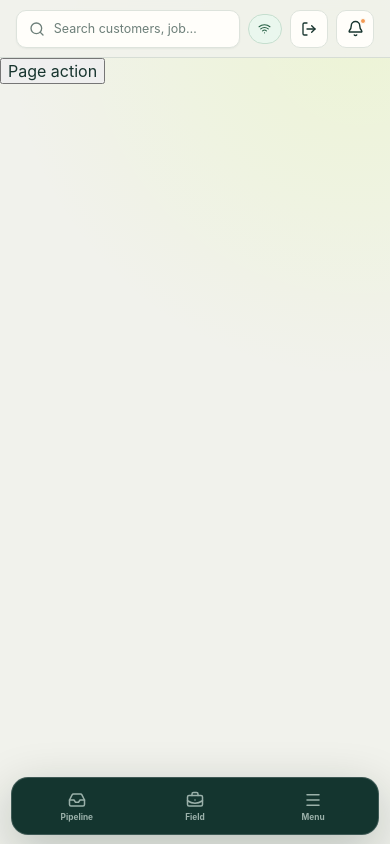
it: AppShell keyboard and mobile accessibility › filters the complete drawer to the authenticated technician permission set
The width and height of the screenshot is (390, 844).
Click the button with aria-label "Open navigation menu": x=313, y=806 [254,784,372,829]
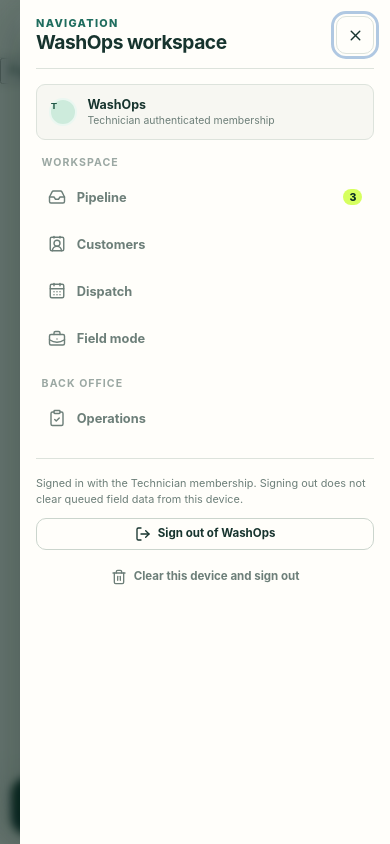
Now the link "Pipeline 3" is shown, box [48,188,362,206]
Now the link "Customers" is shown, box [48,235,145,253]
Now the link "Dispatch" is shown, box [48,282,132,300]
